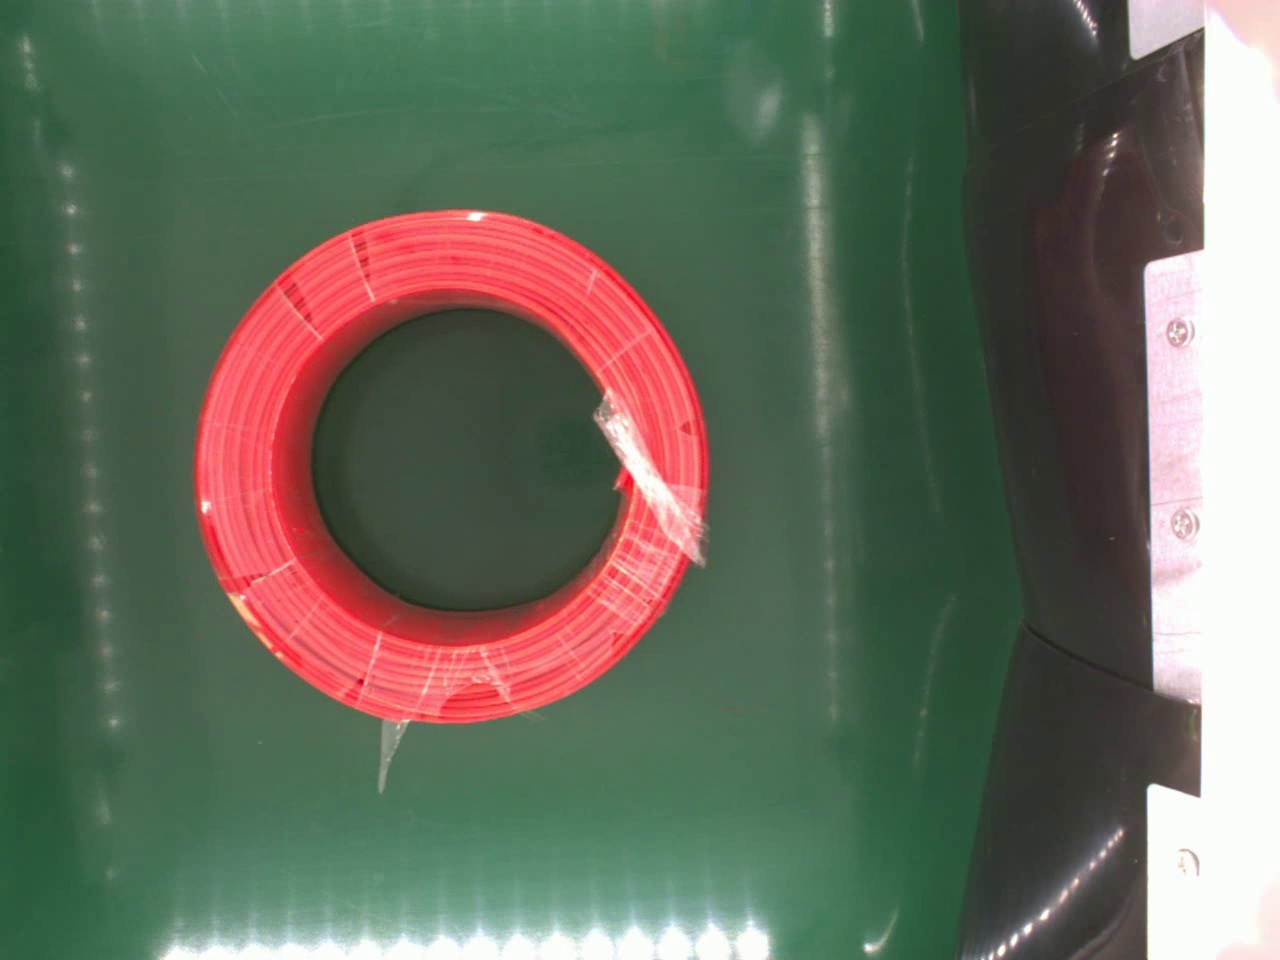red: (191, 208, 714, 723)
